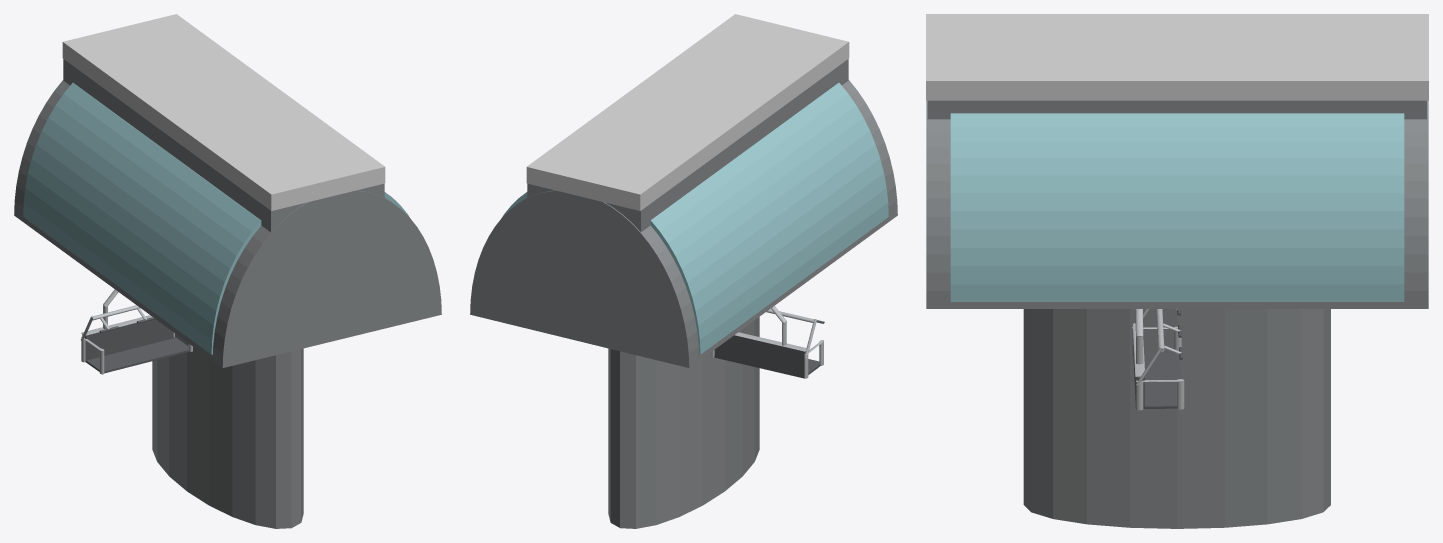
File: garetelesiege.glb
The picture shows the model from 3 angles, left to right: view 1: azimuth 30°, elevation 25°; view 2: azimuth 150°, elevation 25°; view 3: azimuth 270°, elevation 25°; orthographic projection. The views are drawn at different scales.
Visible parts, largest first — view 1: Mesh_Mesh_head_geo.001_lambert2SG.001; view 2: Mesh_Mesh_head_geo.001_lambert2SG.001; view 3: Mesh_Mesh_head_geo.001_lambert2SG.001.
Boxes of the visible parts, x1,y1,x2,y2 form: Mesh_Mesh_head_geo.001_lambert2SG.001: (14,14,441,528); Mesh_Mesh_head_geo.001_lambert2SG.001: (470,14,897,528); Mesh_Mesh_head_geo.001_lambert2SG.001: (926,14,1428,528).
Size of the model in its own units: 137 by 183 by 183.
